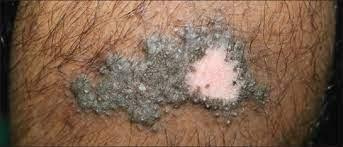hypertrophic lichen planus: (70, 9, 279, 135)
